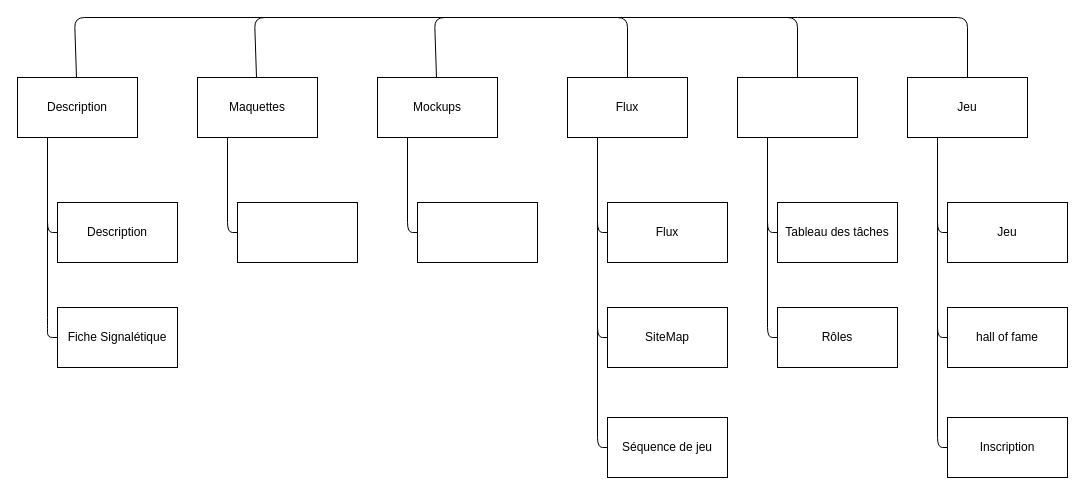
The diagram is 1085 pixels wide and 495 high, and some of its shapes have lost their labels. Each missing label, with the centre of its shape:
"Journal de Bord" belongs at point (797, 107).
"Mockups du Jeu" belongs at point (477, 232).
"Mockups du Site" belongs at point (297, 232).
